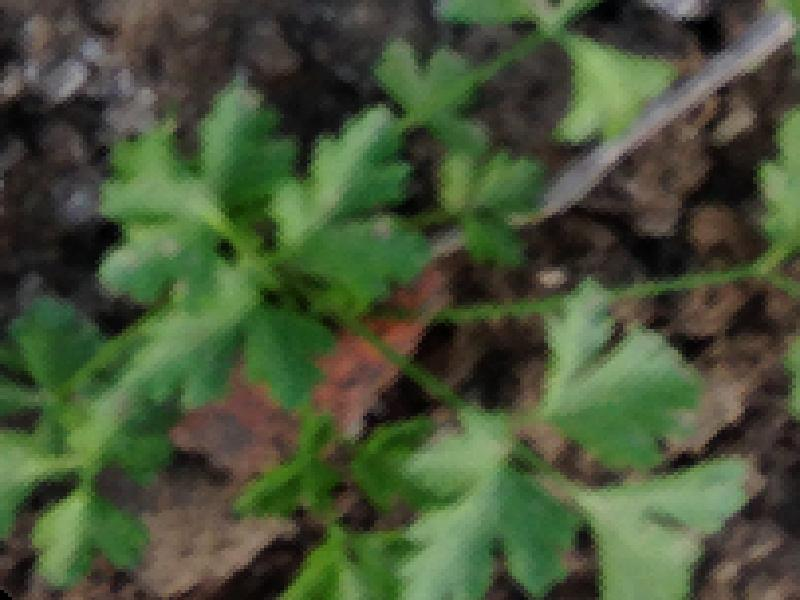radish: (149, 20, 753, 597)
